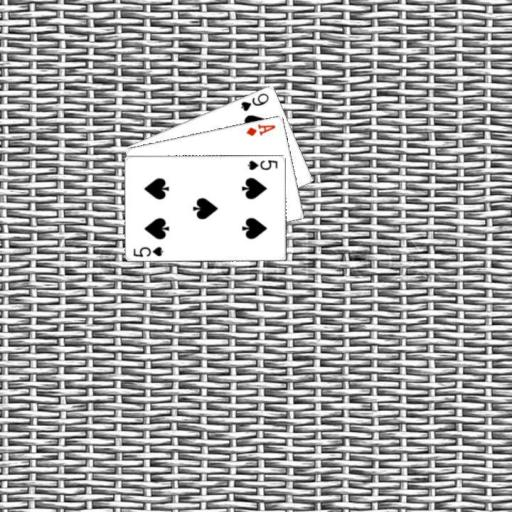5S: (245, 157, 280, 172), (131, 243, 165, 258)
9S: (238, 90, 270, 113)
AD: (243, 121, 277, 137)
